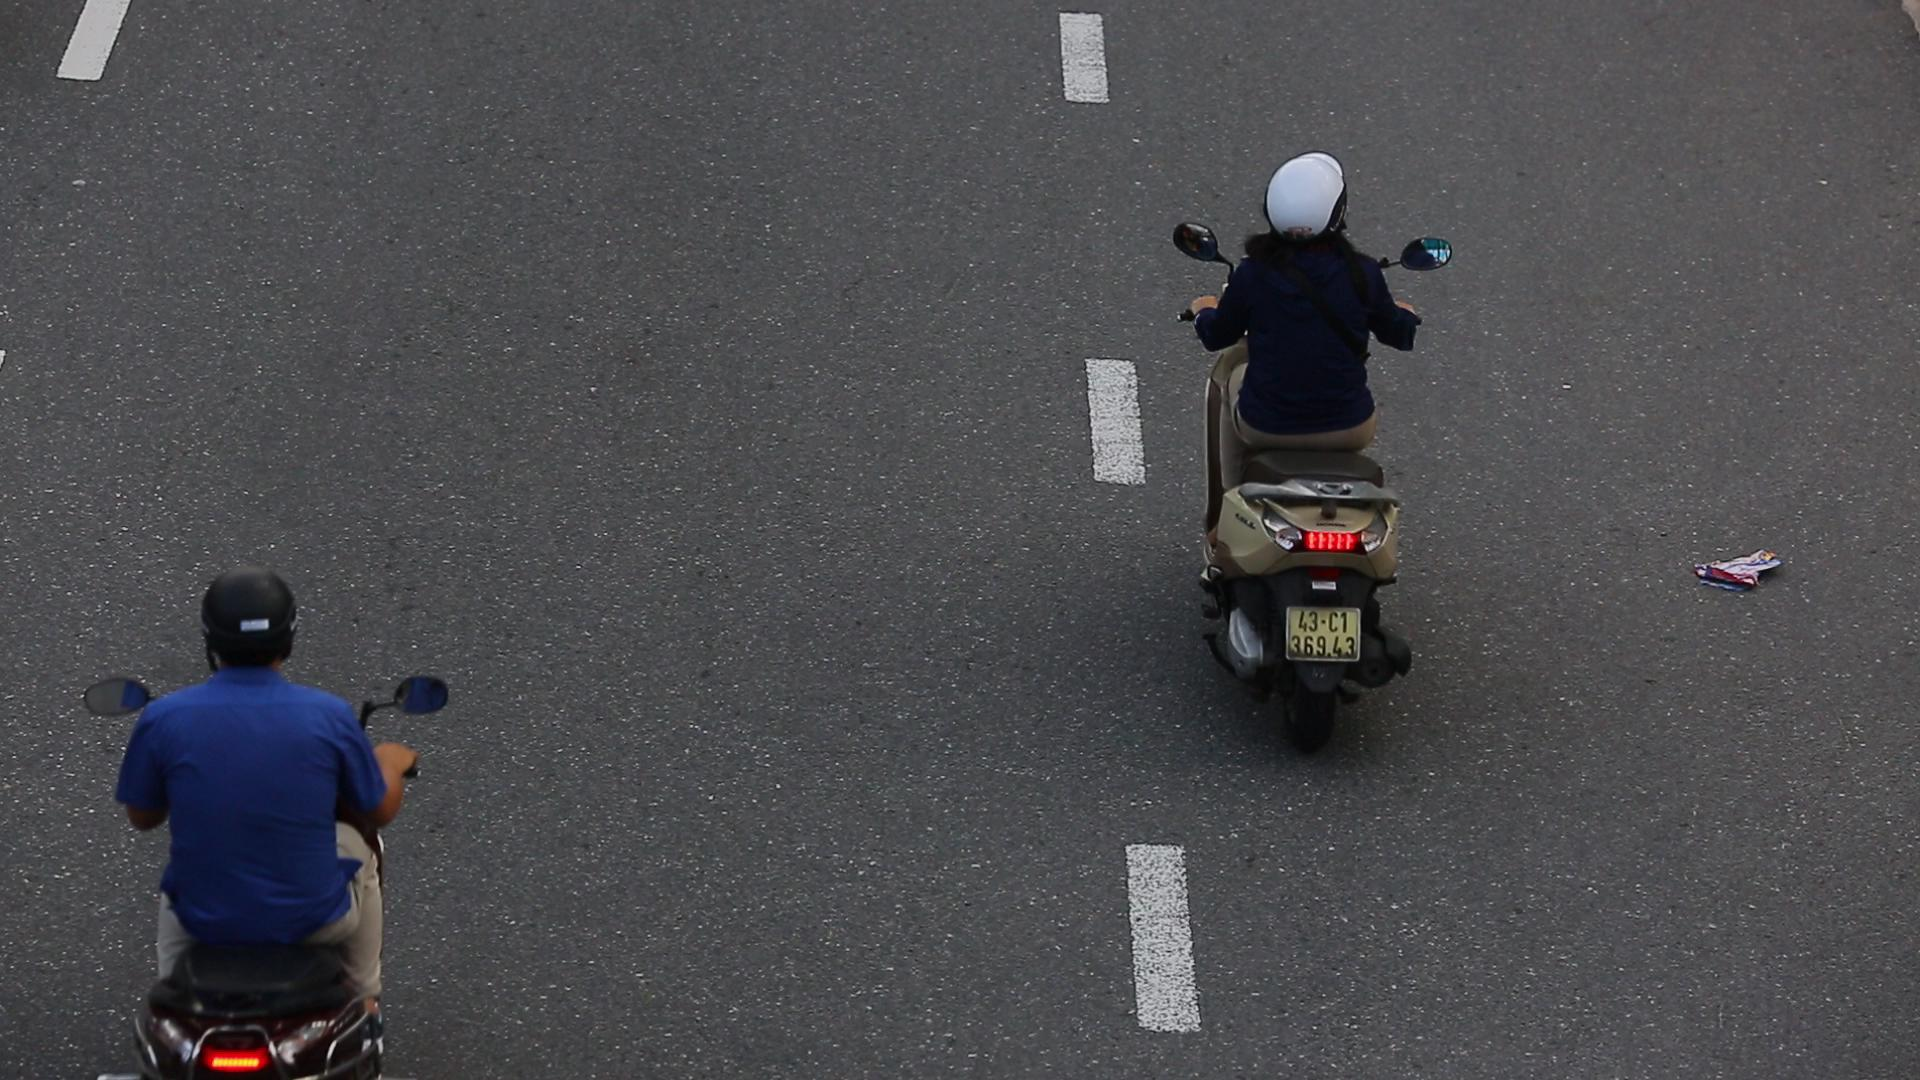motobike: (1158, 138, 1451, 764)
